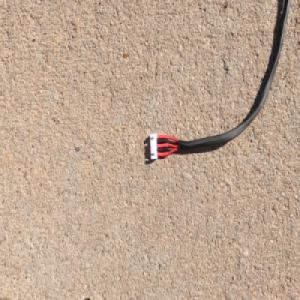Wire: (148, 0, 292, 163)
